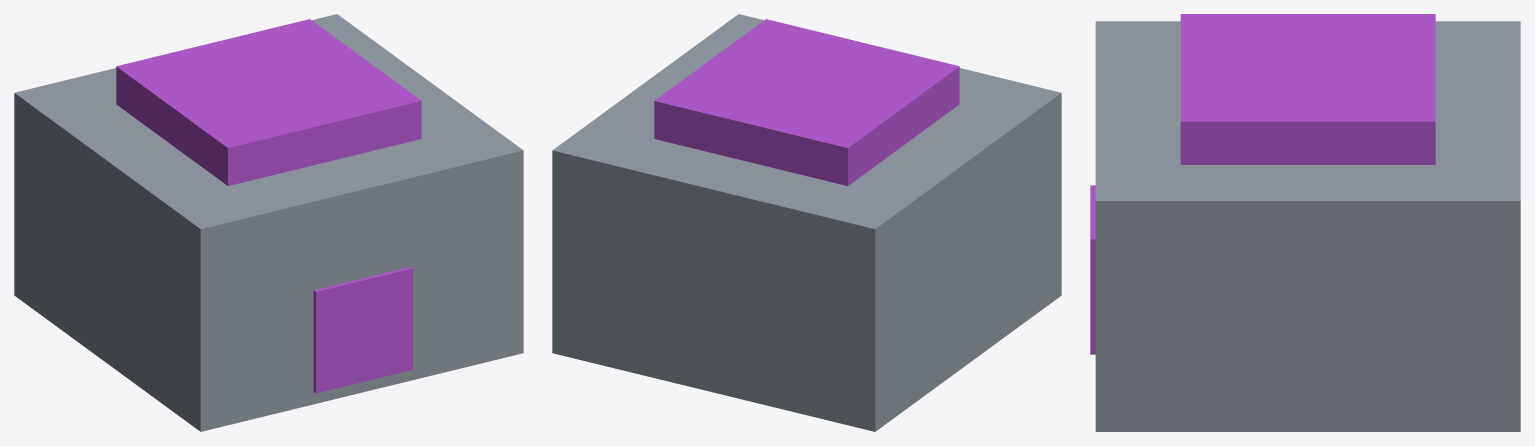
File: CH_ConYard_LOD0.glb
3 renders of one model, left to right at view 1: azimuth 30°, elevation 25°; view 2: azimuth 150°, elevation 25°; view 3: azimuth 270°, elevation 25°, orthographic. The views are drawn at different scales.
Visible parts, largest first — view 1: EntranceGate; view 2: EntranceGate; view 3: EntranceGate.
Boxes of the visible parts, x1,y1,x2,y2 form: EntranceGate: (14, 14, 523, 431); EntranceGate: (552, 14, 1061, 431); EntranceGate: (1090, 14, 1520, 431).
Size of the model in its own units: 800 by 570 by 810.
